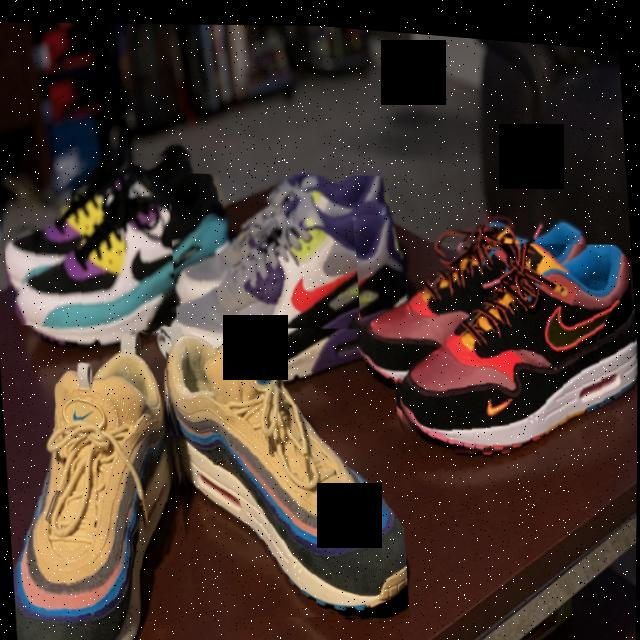shoe: (159, 308, 412, 627), (381, 218, 639, 464), (0, 311, 187, 640), (166, 153, 419, 389), (0, 129, 245, 354), (352, 192, 599, 391)
